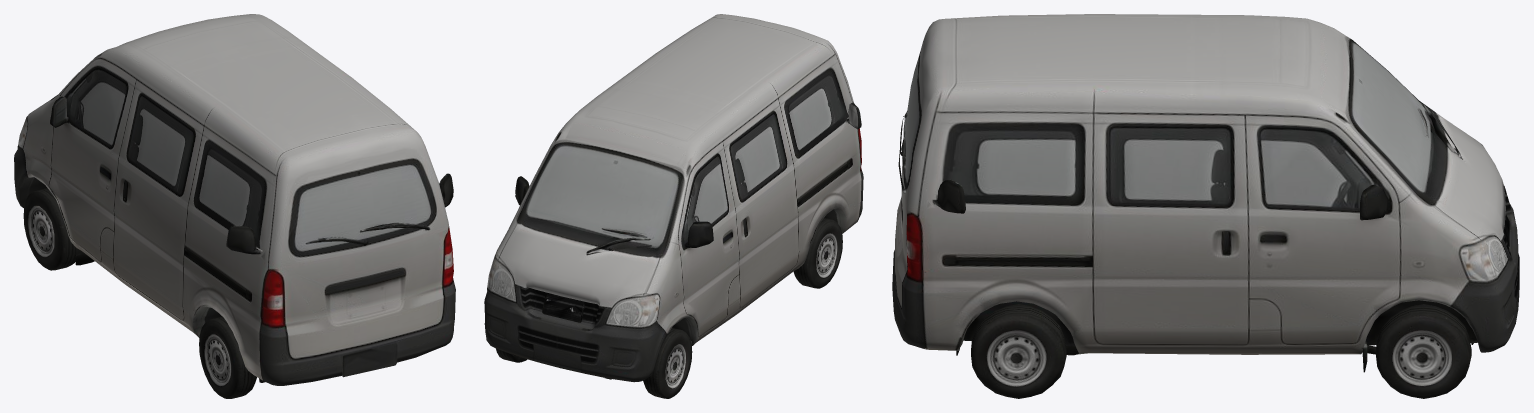
File: vehicle-van.glb
3 renders of one model, left to right at view 1: azimuth 30°, elevation 25°; view 2: azimuth 150°, elevation 25°; view 3: azimuth 270°, elevation 25°, orthographic. The views are drawn at different scales.
Parts seen in each view (by area): view 1: tripo_node_7142afc5-e967-40a6-aff3-10be215f04e4; view 2: tripo_node_7142afc5-e967-40a6-aff3-10be215f04e4; view 3: tripo_node_7142afc5-e967-40a6-aff3-10be215f04e4.
Boxes of the visible parts, x1,y1,x2,y2 form: tripo_node_7142afc5-e967-40a6-aff3-10be215f04e4: (14, 14, 455, 398); tripo_node_7142afc5-e967-40a6-aff3-10be215f04e4: (484, 14, 863, 398); tripo_node_7142afc5-e967-40a6-aff3-10be215f04e4: (892, 14, 1519, 398).
Size of the model in its own units: 0.4863 by 0.5293 by 0.998.
Materials: 1 (1 with a texture image).
